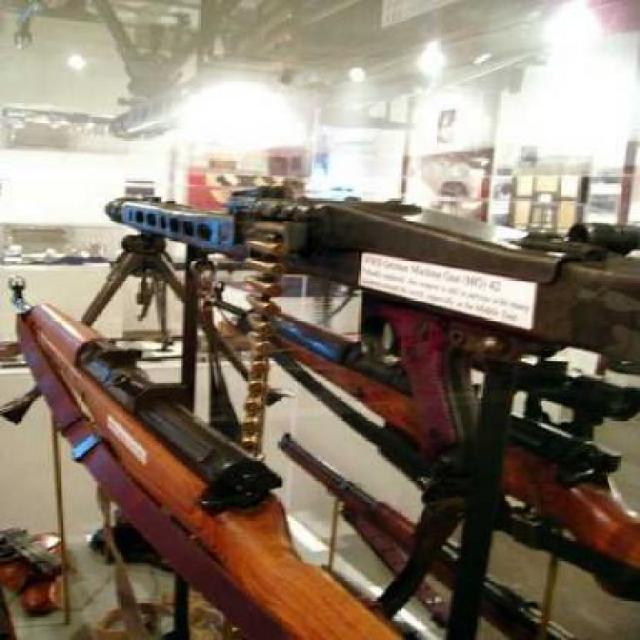weapon: (98, 176, 640, 574), (8, 276, 400, 640)
